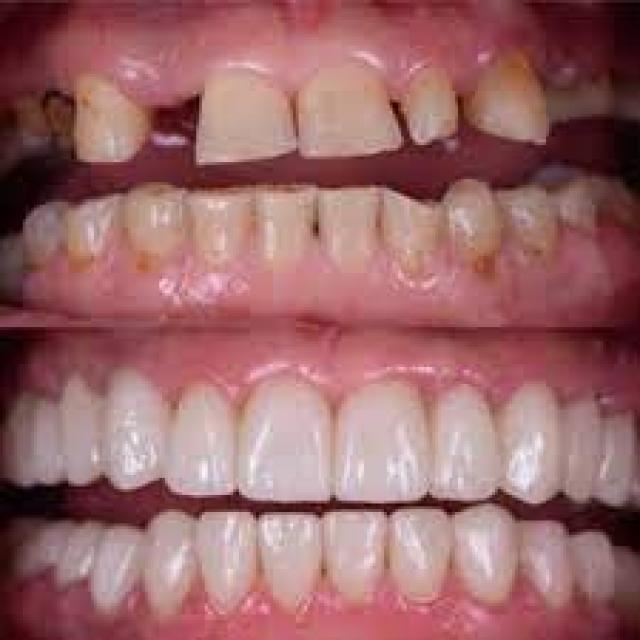tooth: (336, 370, 432, 503), (242, 372, 336, 503), (293, 65, 404, 168), (472, 40, 563, 154), (190, 71, 298, 159), (171, 370, 239, 503), (435, 376, 504, 504), (504, 370, 566, 509), (102, 364, 165, 498), (71, 77, 151, 168), (259, 501, 324, 612), (455, 504, 523, 608), (185, 179, 256, 276), (193, 504, 259, 608), (390, 498, 455, 603), (384, 176, 449, 279), (401, 57, 472, 151), (122, 179, 188, 279), (321, 504, 387, 600), (444, 174, 503, 278), (253, 174, 316, 270), (520, 509, 578, 612), (57, 370, 105, 492), (142, 504, 196, 612), (322, 176, 381, 273), (504, 176, 560, 273), (60, 193, 119, 284), (566, 384, 603, 509), (102, 515, 142, 614)
